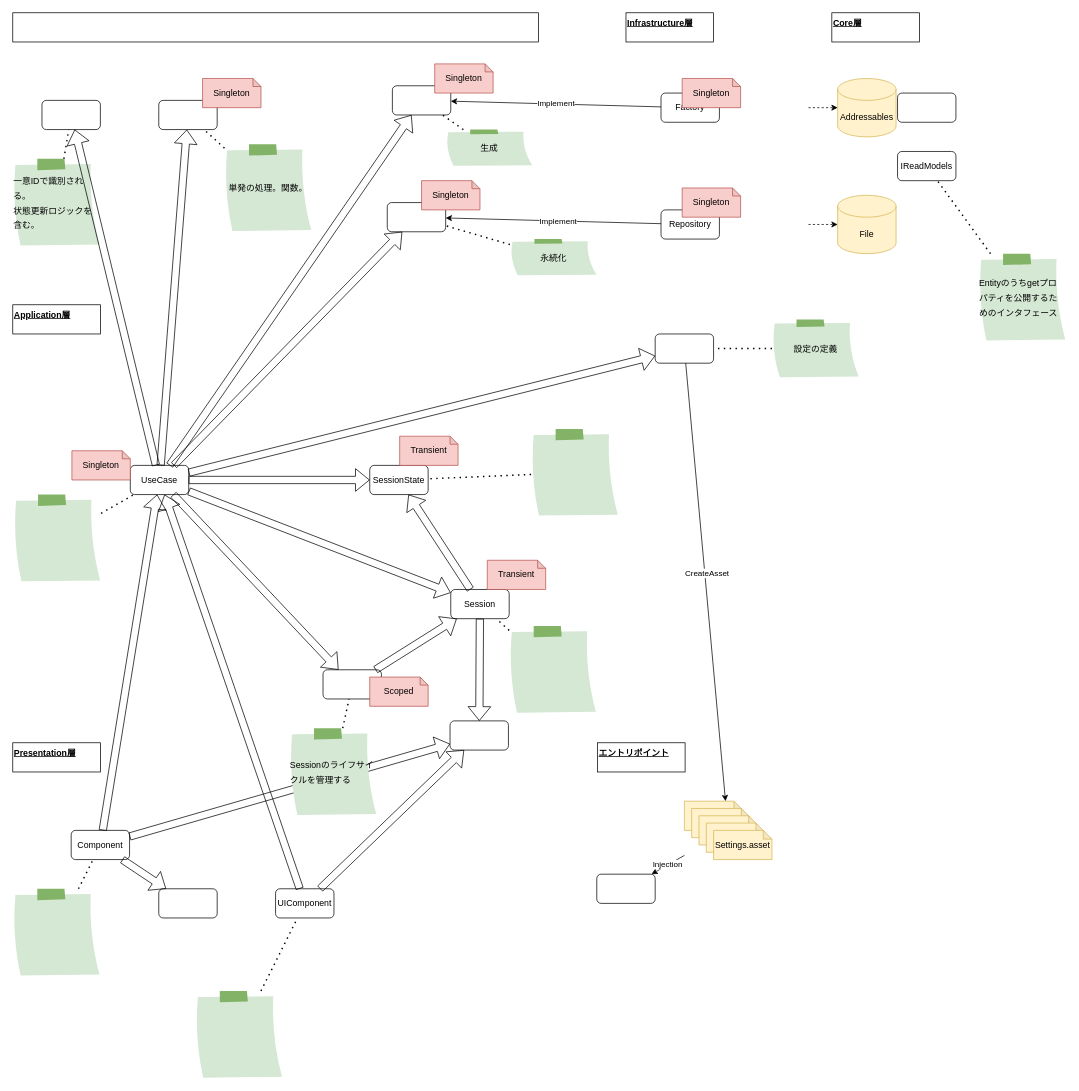
Some shapes in this 1079 by 1091 pixel diagram are drawn without their labels. Each missing label, with the centre of its shape:
"ApplicationEvent" goes at [478,735].
"Componentの中でも特にUI部品としてヒエラルキーに配置されるもの" goes at [239,1034].
"Domain層" goes at [275,27].
"Entity" goes at [70,115].
"Function" goes at [187,115].
"IFactory" goes at [421,100].
"IRepository" goes at [416,217].
"LifetimeScope" goes at [625,888].
"MonoBehaviourを継承したコンポーネントたち" goes at [56,932].
"PresentationEvent" goes at [187,903].
"ScriptableObjects" goes at [684,348].
"SessionManager" goes at [351,684].
"ValueObject" goes at [926,107].
"任意のEntityインスタンスを保持して状態を管理する。" goes at [574,472].
"状態を持たない単発の操作。シナリオ。" goes at [57,538].
"複数のSessionStateを保持して状態を管理する。" goes at [552,669].
